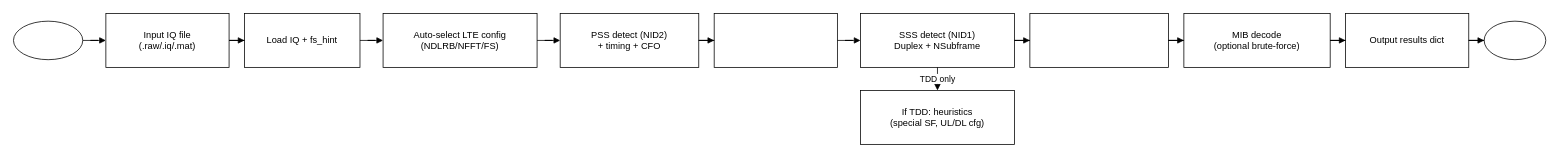
Some shapes in this 1559 by 158 pixel diagram are drawn without their labels. The centre of each missing label's shape, as x and y in pixels:
Align to subframe 0: (775,40)
End: (1514,40)
PBCH RE extract + EQ candidates: (1098,40)
Start: (48,40)
